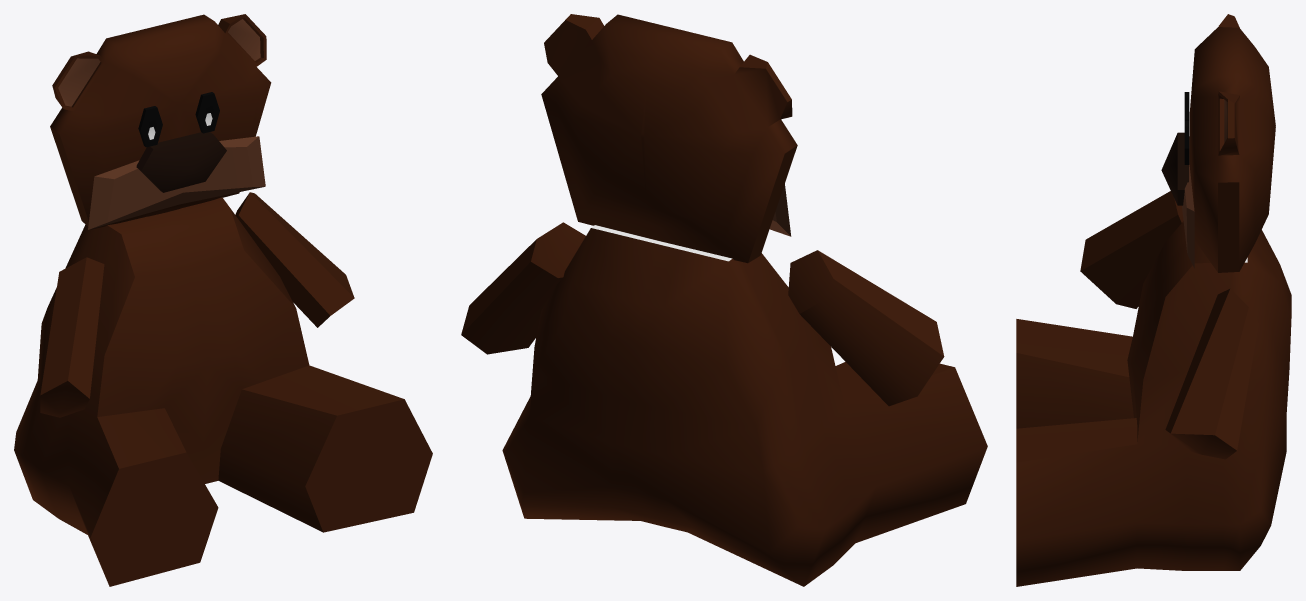
Rendered from TeddyBear_Justin (1).FBX.
The picture shows the model from 3 angles, left to right: view 1: azimuth 30°, elevation 25°; view 2: azimuth 150°, elevation 25°; view 3: azimuth 270°, elevation 25°; orthographic projection. The views are drawn at different scales.
Parts seen in each view (by area): view 1: Cylinder001; view 2: Cylinder001; view 3: Cylinder001.
Part boxes in pixels (<box>): Cylinder001: <box>14,14,432,586</box>; Cylinder001: <box>461,14,987,586</box>; Cylinder001: <box>1016,14,1291,586</box>.
Size of the model in its own units: 22.91 by 27.19 by 14.77.
